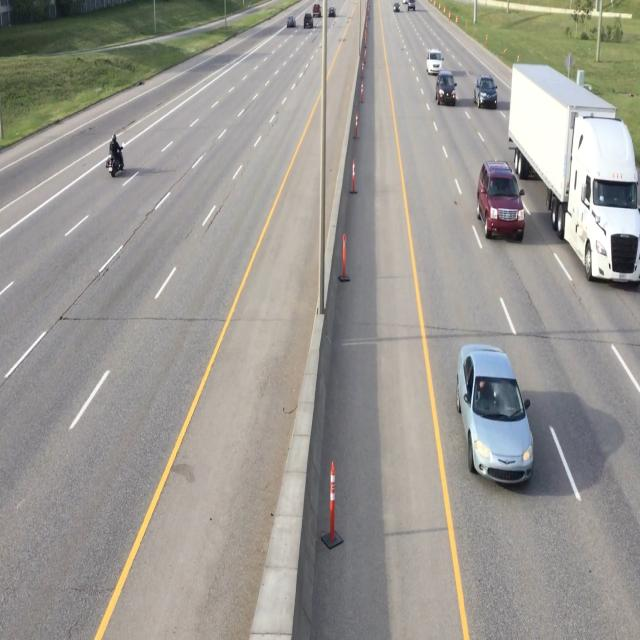Car: (507, 57, 640, 288), (453, 340, 533, 488), (477, 162, 525, 245), (474, 71, 500, 112), (435, 69, 457, 107), (422, 44, 445, 76)
